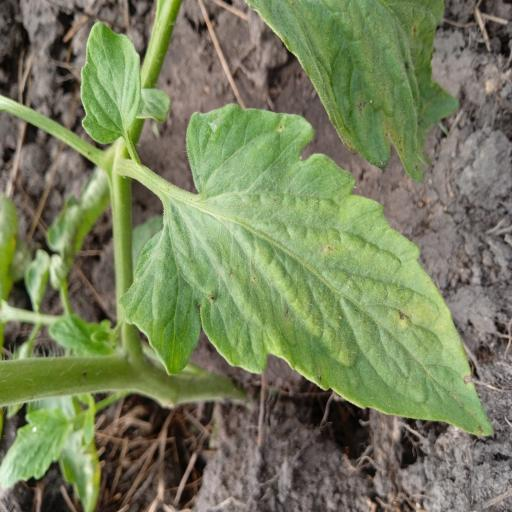Tomato_Brown_Spots: (111, 99, 493, 443), (240, 0, 464, 175)
